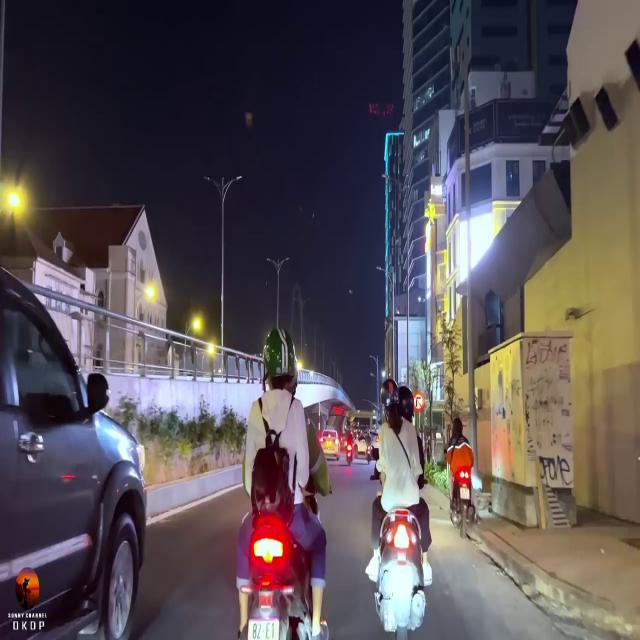bien_trang: (245, 613, 284, 640)
